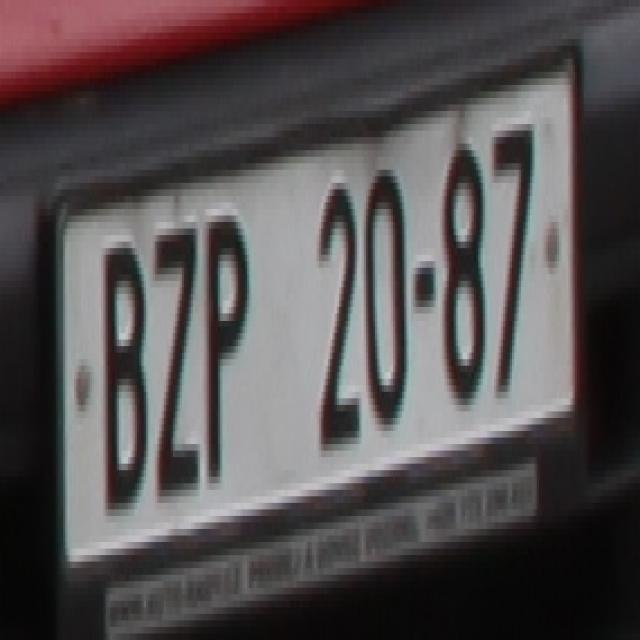0: (362, 170, 408, 438)
2: (312, 183, 359, 444)
7: (492, 104, 541, 398)
8: (440, 137, 487, 405)
B: (99, 235, 150, 509)
P: (202, 202, 252, 483)
Z: (153, 228, 202, 503)
